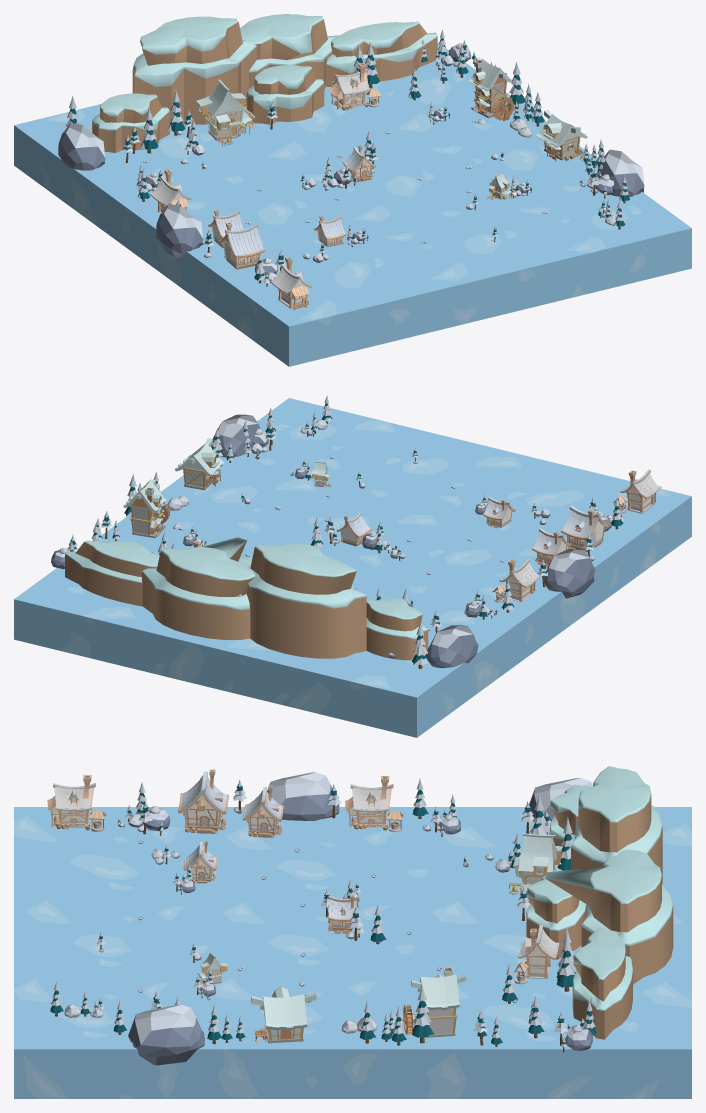
Rendered from snow village.fbx.
3 views of the same model, one above another, from view 1: azimuth 30°, elevation 25°; view 2: azimuth 150°, elevation 25°; view 3: azimuth 270°, elevation 25° (orthographic). The views are drawn at different scales.
Visible parts, largest first — view 1: pPlane1, pine_wood, house_03_06, level_5, stone_62, stone_55, group17, house01_level09, house_04, stone_61, house01_level08, house01_level05 (+3 smaller); view 2: pPlane1, pine_wood, stone_62, stone_55, level_5, group17, house_04, stone_61, house01_level08, house01_level05, house_05, house_07 (+1 smaller); view 3: pPlane1, pine_wood, stone_61, stone_62, level_5, group17, house_04, house01_level08, house01_level05, house_03_06, house01_level09, house_05 (+7 smaller).
Boxes of the visible parts, x1,y1,x2,y2 form: pPlane1: [14, 42, 691, 366]; pine_wood: [92, 14, 437, 152]; house_03_06: [196, 79, 255, 146]; level_5: [468, 57, 513, 120]; stone_62: [156, 204, 203, 259]; stone_55: [58, 123, 105, 170]; group17: [535, 110, 587, 161]; house01_level09: [328, 62, 381, 110]; house_04: [218, 222, 264, 269]; stone_61: [597, 149, 644, 196]; house01_level08: [270, 257, 312, 310]; house01_level05: [149, 169, 191, 213]; pPlane1: [14, 398, 691, 737]; pine_wood: [65, 537, 428, 660]; stone_62: [544, 549, 595, 598]; stone_55: [426, 625, 478, 667]; level_5: [123, 479, 169, 538]; group17: [175, 438, 224, 490]; house_04: [561, 505, 609, 552]; stone_61: [211, 414, 260, 457]; house01_level08: [613, 469, 661, 513]; house01_level05: [492, 558, 540, 602]; house_05: [532, 528, 571, 566]; house_07: [482, 497, 515, 528]; pPlane1: [14, 807, 691, 1098]; pine_wood: [526, 766, 673, 1039]; stone_61: [128, 1004, 204, 1065]; stone_62: [267, 772, 339, 820]; level_5: [402, 967, 465, 1037]; group17: [251, 986, 316, 1043]; house_04: [178, 769, 228, 833]; house01_level08: [47, 775, 105, 832]; house01_level05: [345, 776, 403, 832]; house_03_06: [508, 833, 562, 903]; house01_level09: [513, 925, 559, 984]; house_05: [242, 785, 283, 837].
Size of the model in its own units: 485 by 138 by 547.
